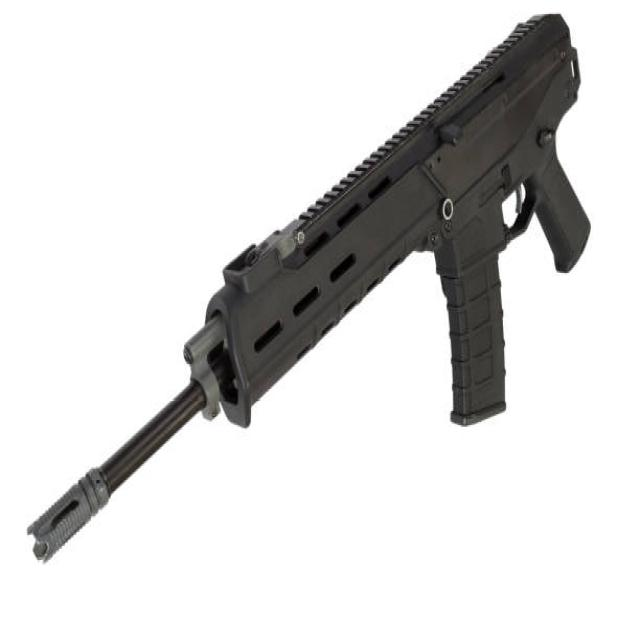rifle: (21, 2, 593, 567)
